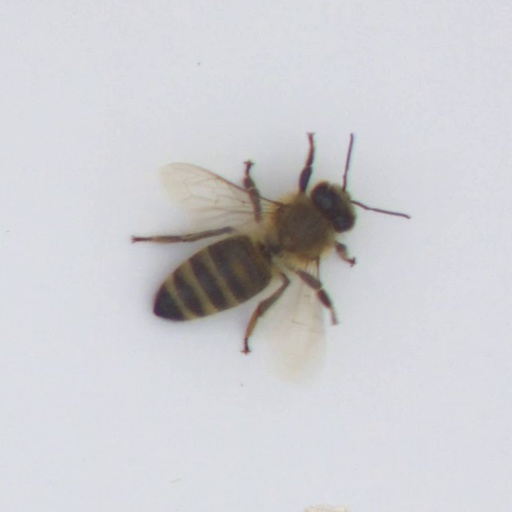Bee: (127, 174, 374, 337)
Thorax: (268, 197, 336, 261)
